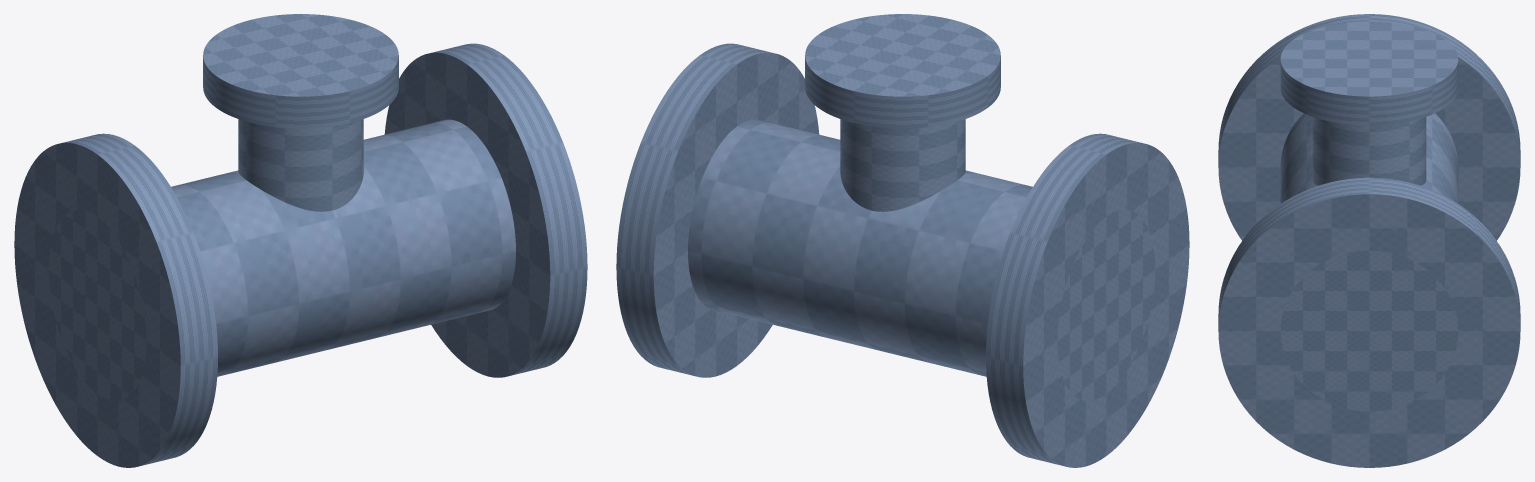
Rendered from ventilhus.glb.
3 renders of one model, left to right at view 1: azimuth 30°, elevation 25°; view 2: azimuth 150°, elevation 25°; view 3: azimuth 270°, elevation 25°, orthographic. The views are drawn at different scales.
Parts seen in each view (by area): view 1: kropp, flans-vanster, flans-hoger, topp-lock, topp-hals; view 2: kropp, flans-vanster, flans-hoger, topp-lock, topp-hals; view 3: flans-hoger, kropp, flans-vanster, topp-lock, topp-hals.
Boxes of the visible parts, x1,y1,x2,y2 form: kropp: (48, 119, 515, 400); flans-vanster: (14, 133, 217, 467); flans-hoger: (384, 43, 587, 377); topp-lock: (203, 14, 398, 128); topp-hals: (238, 119, 363, 211); kropp: (688, 119, 1155, 400); flans-vanster: (986, 133, 1189, 467); flans-hoger: (616, 43, 819, 377); topp-lock: (805, 14, 1000, 128); topp-hals: (840, 119, 965, 211); flans-hoger: (1218, 177, 1520, 467); kropp: (1280, 113, 1458, 411); flans-vanster: (1218, 14, 1520, 240); topp-lock: (1280, 21, 1458, 125); topp-hals: (1312, 117, 1426, 185).
Size of the model in its own units: 2.4 by 1.98 by 1.7.
1 material, 1 textured.
